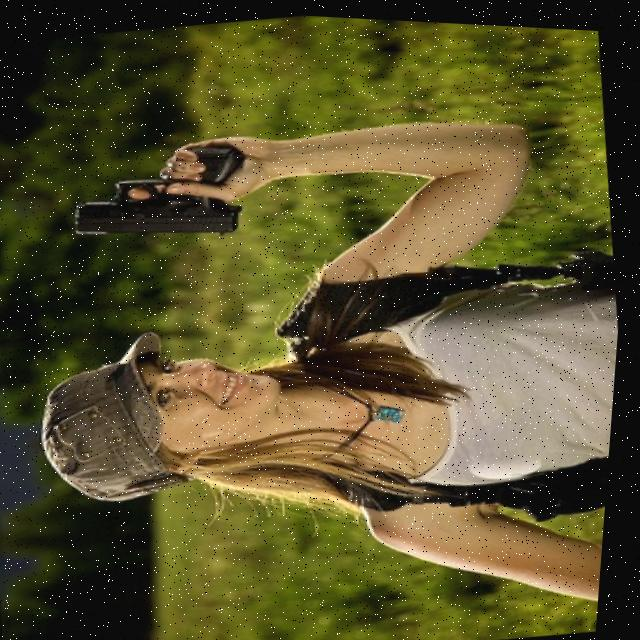pistol: (71, 159, 253, 252)
